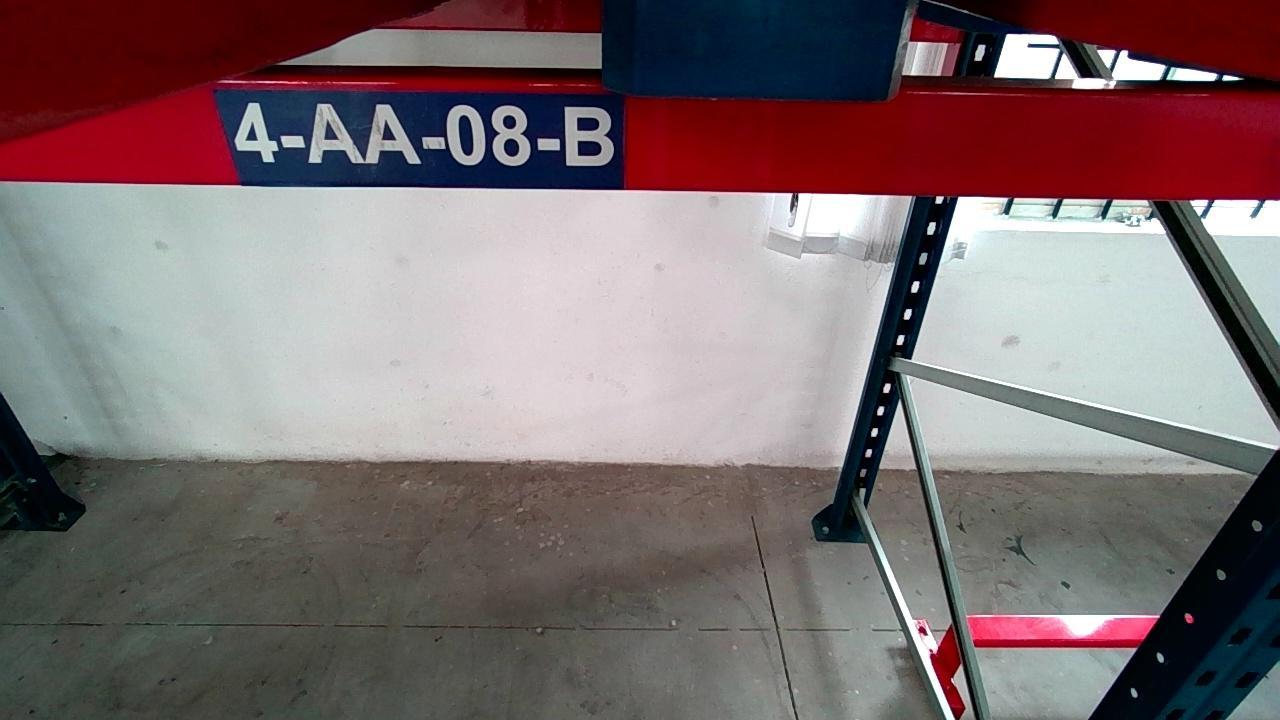h_rack: (7, 83, 1280, 197)
